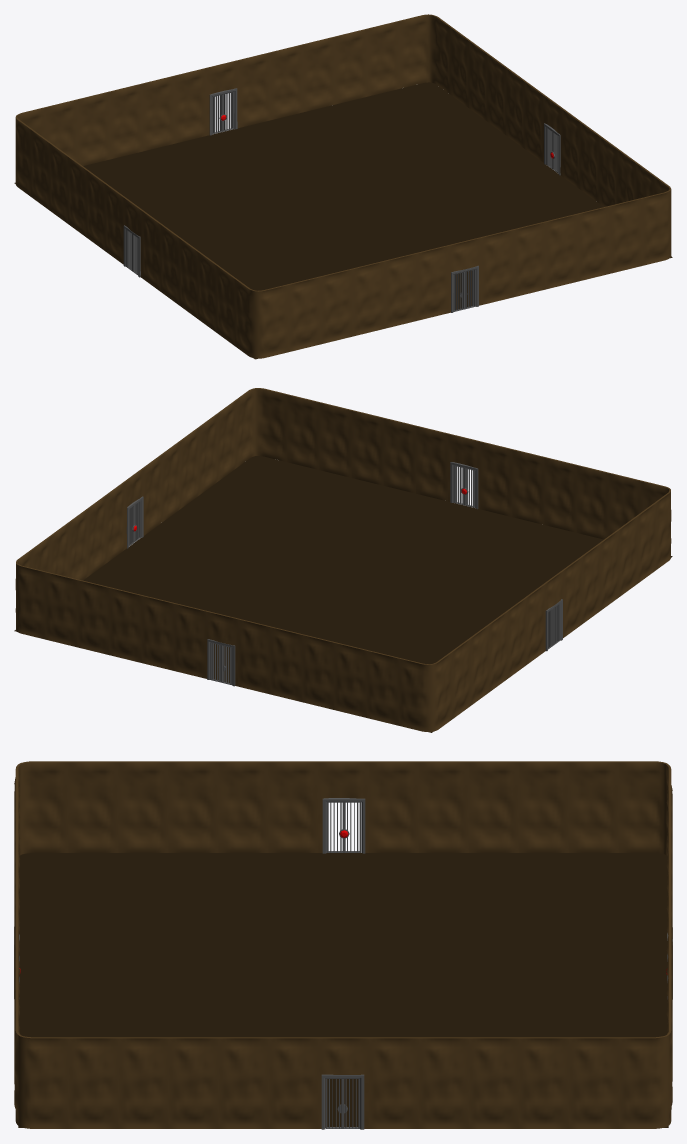
The model's file is room_1_FINAL.fbx.
3 renders of one model, top to bottom at view 1: azimuth 30°, elevation 25°; view 2: azimuth 150°, elevation 25°; view 3: azimuth 270°, elevation 25°, orthographic. The views are drawn at different scales.
Parts seen in each view (by area): view 1: FLOOR, CORNER_7, CORNER_5, CORNER_6, WALL8, WALL24, WALL26, WALL30, WALL4, WALL7, WALL11, WALL44 (+37 smaller); view 2: FLOOR, CORNER_8, CORNER_6, CORNER_5, WALL9, WALL8, WALL30, WALL24, WALL4, WALL1, WALL29, WALL28 (+37 smaller); view 3: FLOOR, CORNER_6, CORNER_5, CORNER_7, CORNER_8, WALL20, WALL42, WALL33, WALL37, WALL36, WALL21, WALL17 (+19 smaller).
Boxes of the visible parts, box(x1,y1,x2,y2) form: FLOOR: box(14, 82, 672, 359); CORNER_7: box(235, 278, 288, 358); CORNER_5: box(399, 14, 451, 93); CORNER_6: box(641, 176, 671, 265); WALL8: box(384, 253, 416, 328); WALL24: box(109, 83, 142, 159); WALL26: box(174, 68, 206, 143); WALL30: box(302, 36, 335, 112); WALL4: box(512, 221, 545, 297); WALL7: box(416, 245, 448, 320); WALL11: box(287, 276, 320, 352); WALL44: box(480, 229, 513, 305); FLOOR: box(14, 456, 672, 732); CORNER_8: box(398, 652, 451, 732); CORNER_6: box(235, 388, 287, 467); CORNER_5: box(15, 550, 45, 639); WALL9: box(544, 457, 576, 532); WALL8: box(512, 449, 544, 524); WALL30: box(109, 587, 142, 662); WALL24: box(302, 634, 334, 709); WALL4: box(383, 418, 416, 493); WALL1: box(287, 394, 319, 469); WALL29: box(141, 595, 173, 670); WALL28: box(173, 603, 206, 678); FLOOR: box(18, 853, 668, 1127); CORNER_6: box(14, 1016, 68, 1128); CORNER_5: box(618, 1016, 672, 1128); CORNER_7: box(14, 761, 68, 855); CORNER_8: box(618, 761, 672, 856); WALL20: box(518, 761, 568, 852); WALL42: box(118, 1037, 168, 1128); WALL33: box(568, 1037, 618, 1128); WALL37: box(368, 1037, 418, 1128); WALL36: box(418, 1037, 468, 1128); WALL21: box(568, 761, 618, 852); WALL17: box(368, 761, 418, 852).
Size of the model in its own units: 1317 by 200 by 1317.
